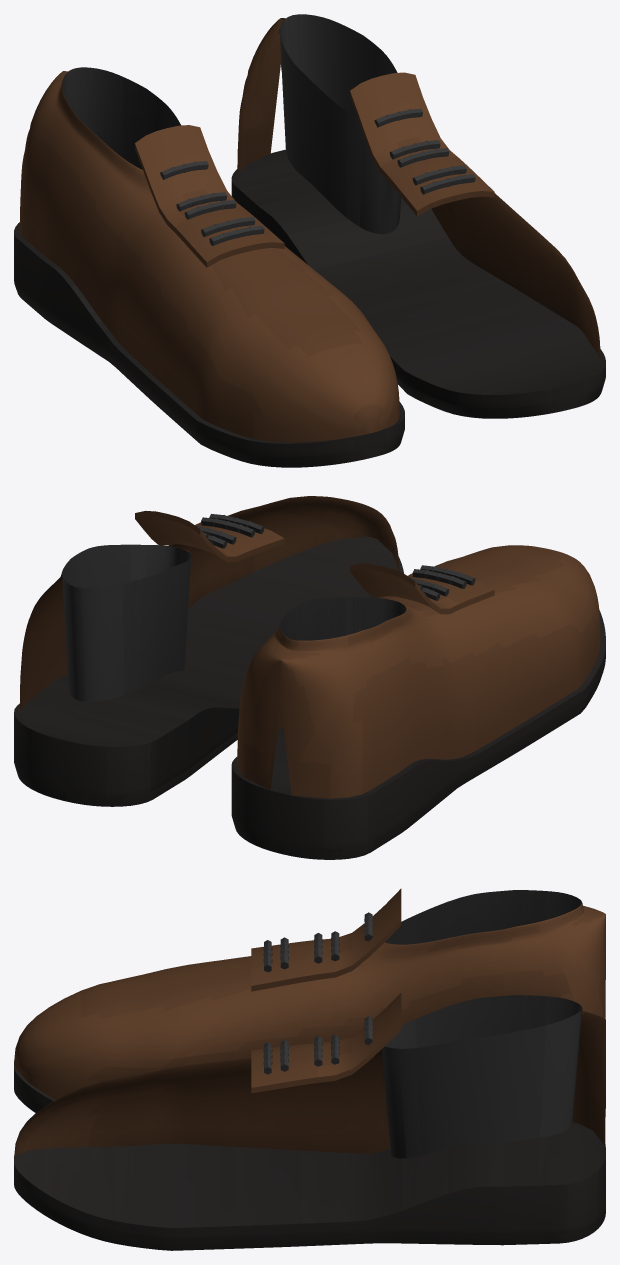
File: shoes_pair_b.glb
The picture shows the model from 3 angles, top to bottom: view 1: azimuth 30°, elevation 25°; view 2: azimuth 150°, elevation 25°; view 3: azimuth 270°, elevation 25°; orthographic projection.
Parts seen in each view (by area): view 1: body; view 2: body; view 3: body.
Boxes of the visible parts, left/top/right/bottom form: body: left=14, top=14, right=605, bottom=467; body: left=14, top=496, right=605, bottom=859; body: left=14, top=888, right=605, bottom=1250.
Size of what is drawn, in the model's own units: 0.2135 by 0.1116 by 0.285.
